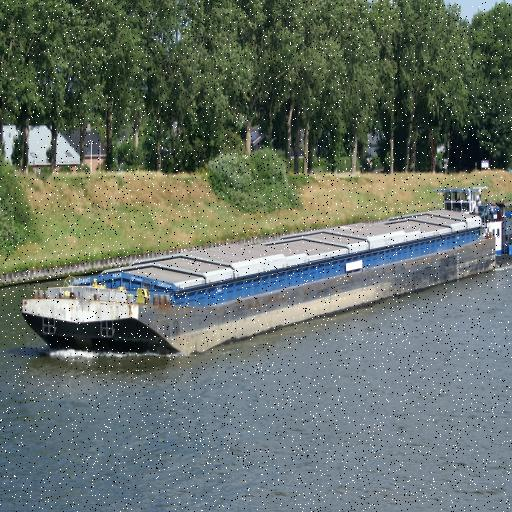tugboat: (425, 182, 512, 292)
